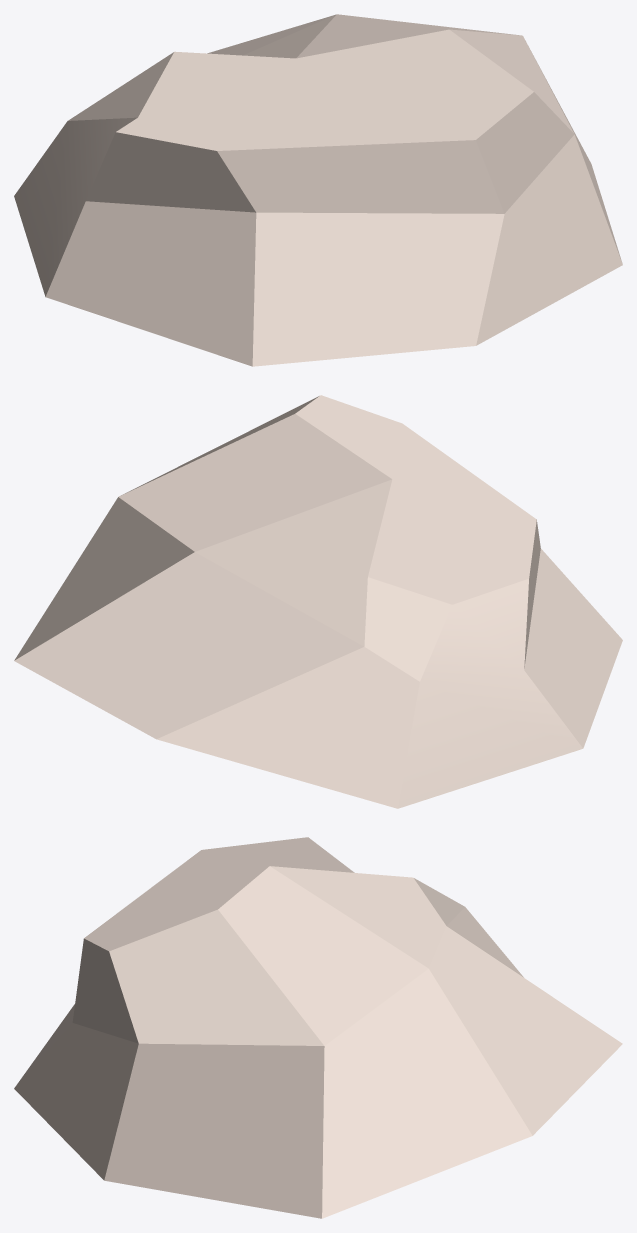
File: rockBB2.fbx
3 views of the same model, one above another, from view 1: azimuth 30°, elevation 25°; view 2: azimuth 150°, elevation 25°; view 3: azimuth 270°, elevation 25° (orthographic). The views are drawn at different scales.
Visible parts, largest first — view 1: rockB2; view 2: rockB2; view 3: rockB2.
Boxes of the visible parts, x1=… form: rockB2: x1=14, y1=14, x2=622, y2=366; rockB2: x1=14, y1=395, x2=622, y2=808; rockB2: x1=14, y1=837, x2=622, y2=1218.
Bounding box in the file's own units: 104 × 40.12 × 102.
